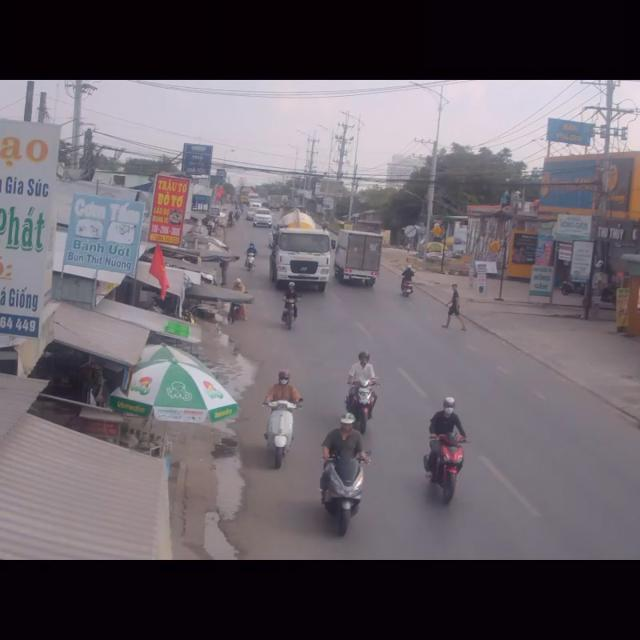motorbike: (314, 408, 373, 537), (418, 394, 468, 508), (262, 368, 299, 471), (344, 349, 380, 420), (280, 282, 300, 330), (400, 263, 415, 299)
truck: (270, 216, 330, 287), (334, 225, 381, 288)
